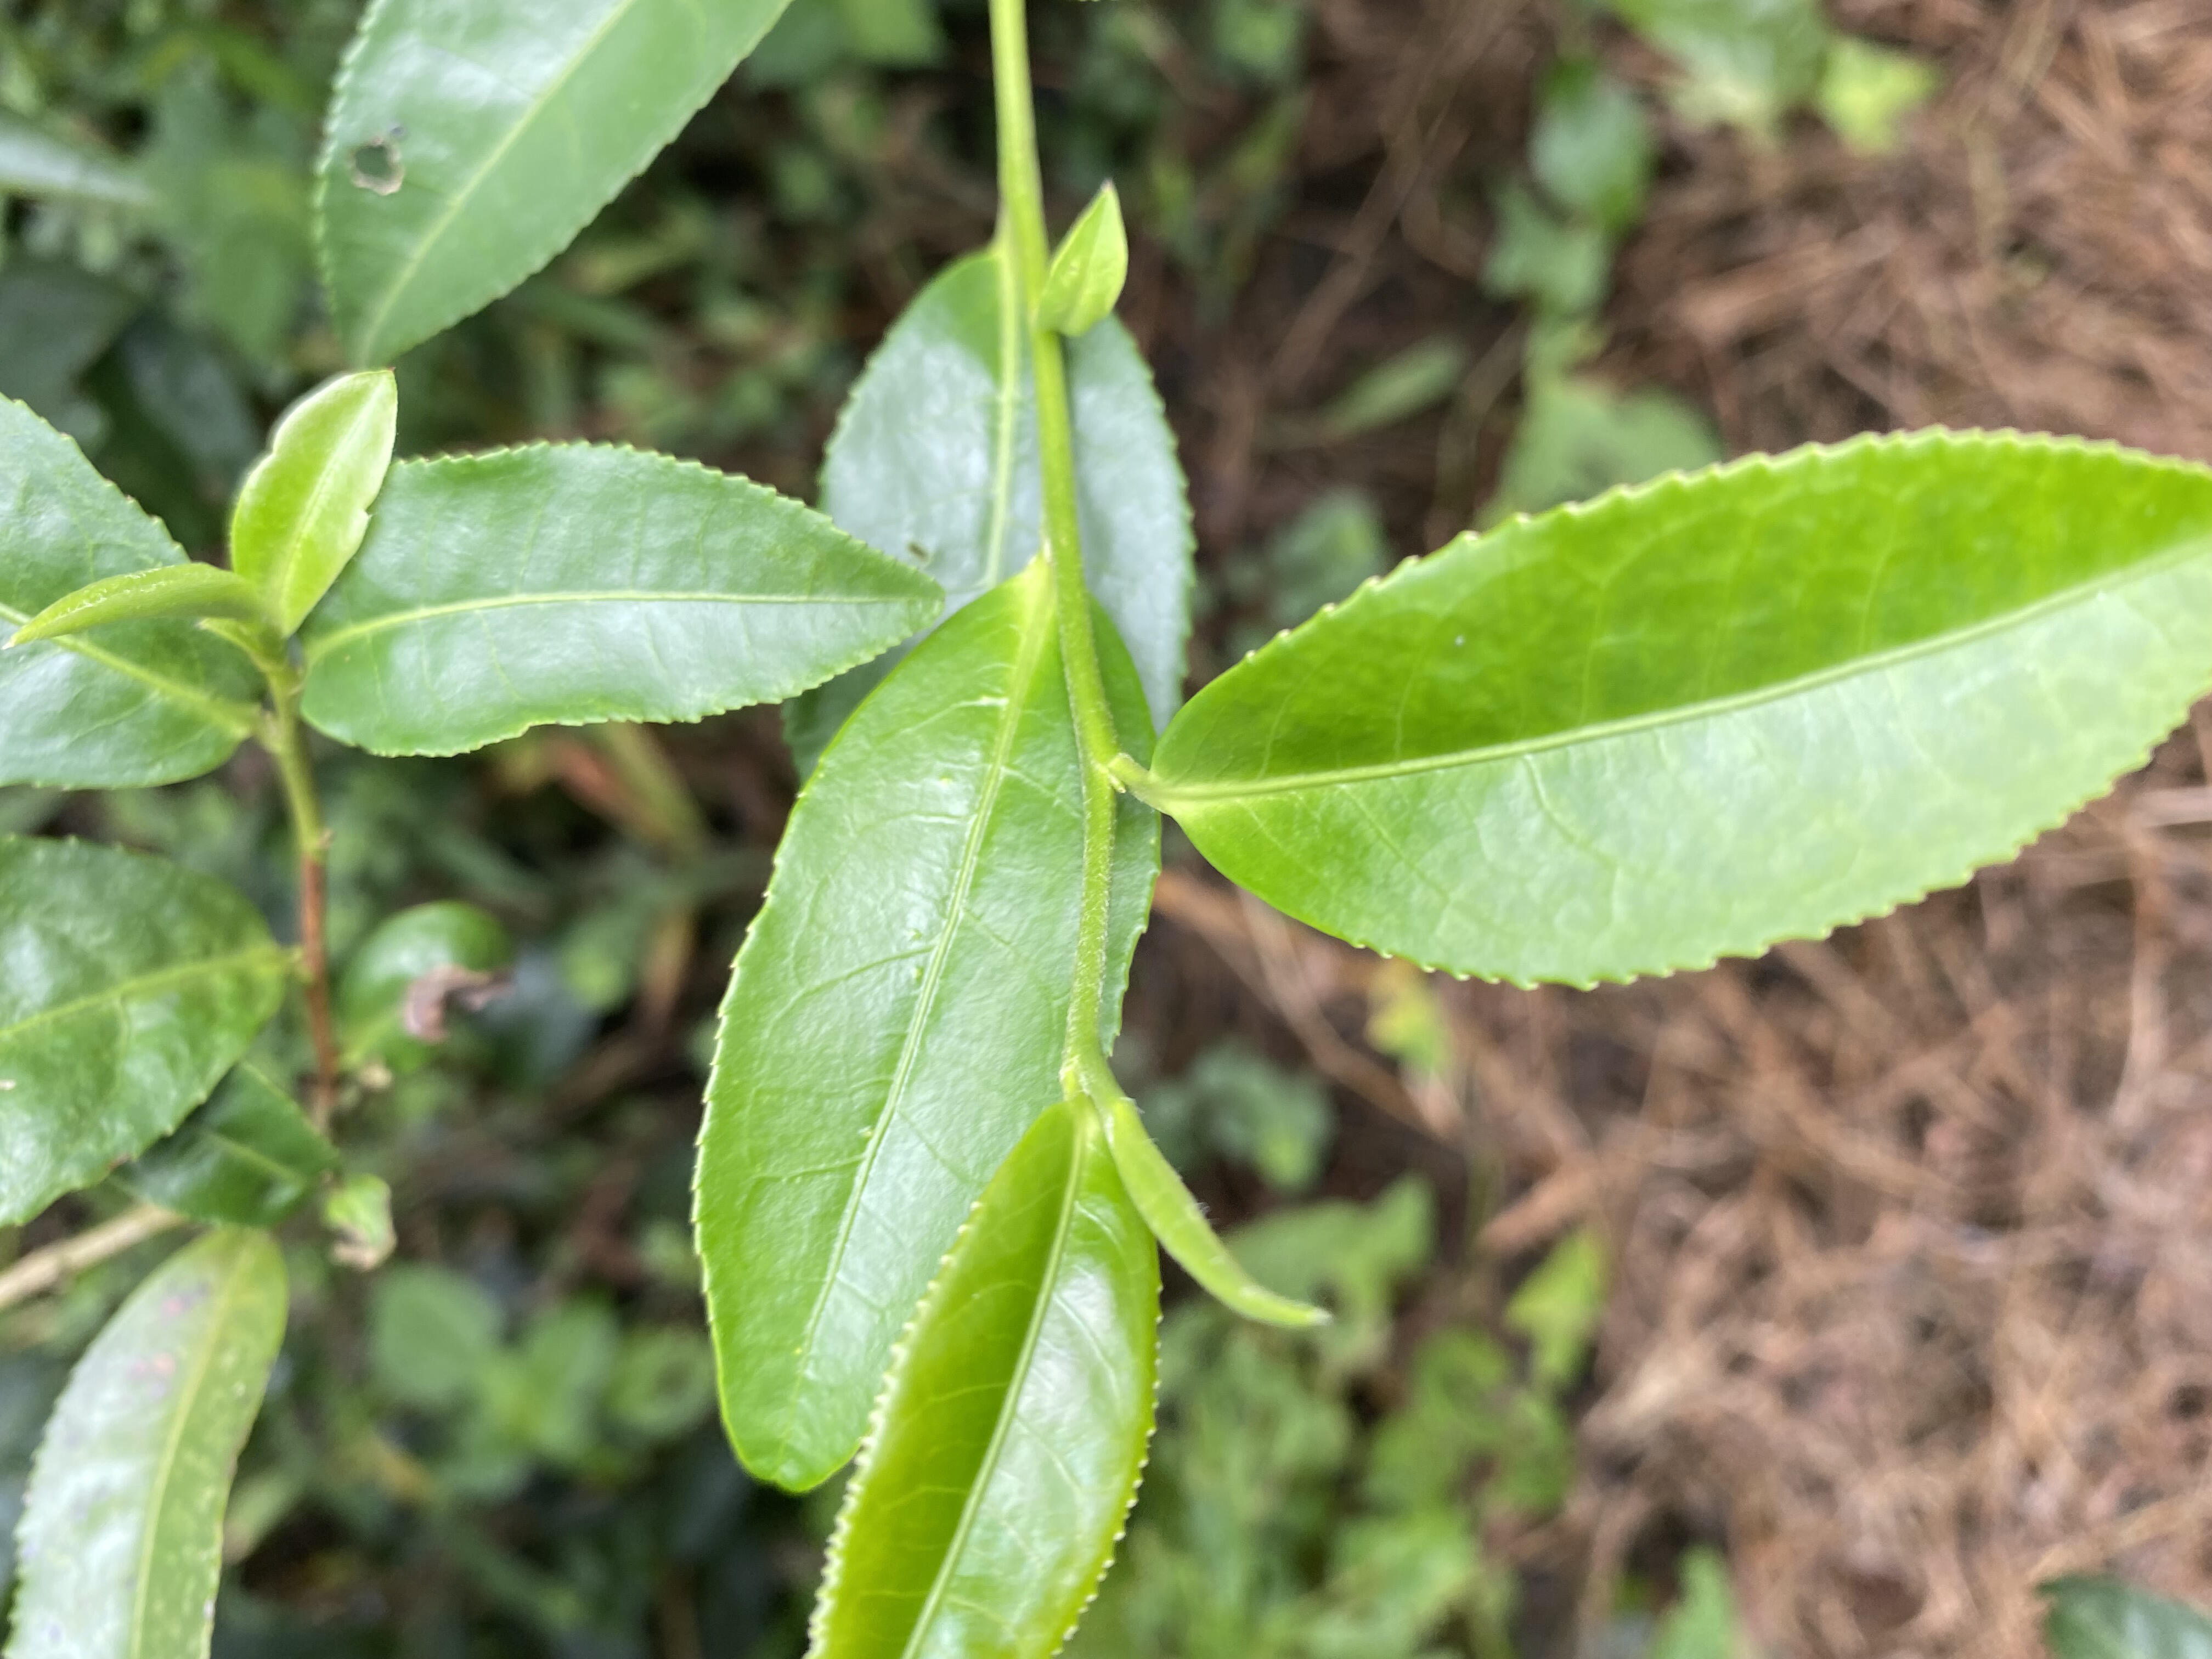chihuo_low: (310, 2, 794, 369)
healthy: (1153, 427, 2209, 995), (686, 570, 1160, 1497), (300, 437, 942, 760), (801, 1105, 1165, 1657), (228, 368, 397, 638)
